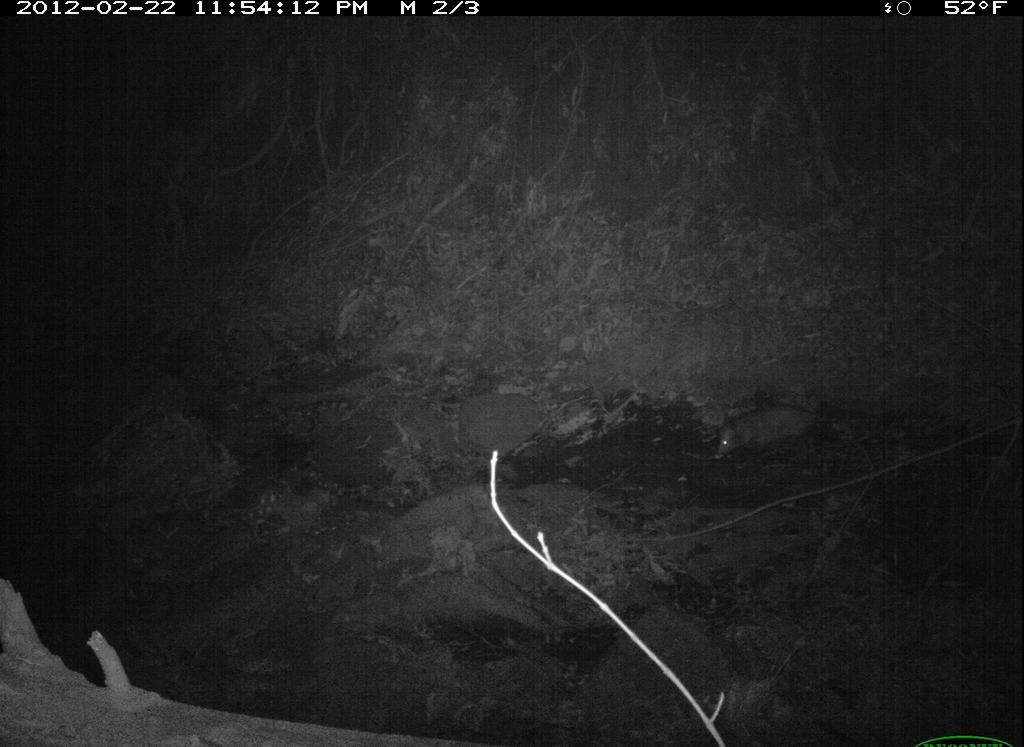opossum: (702, 393, 902, 470)
